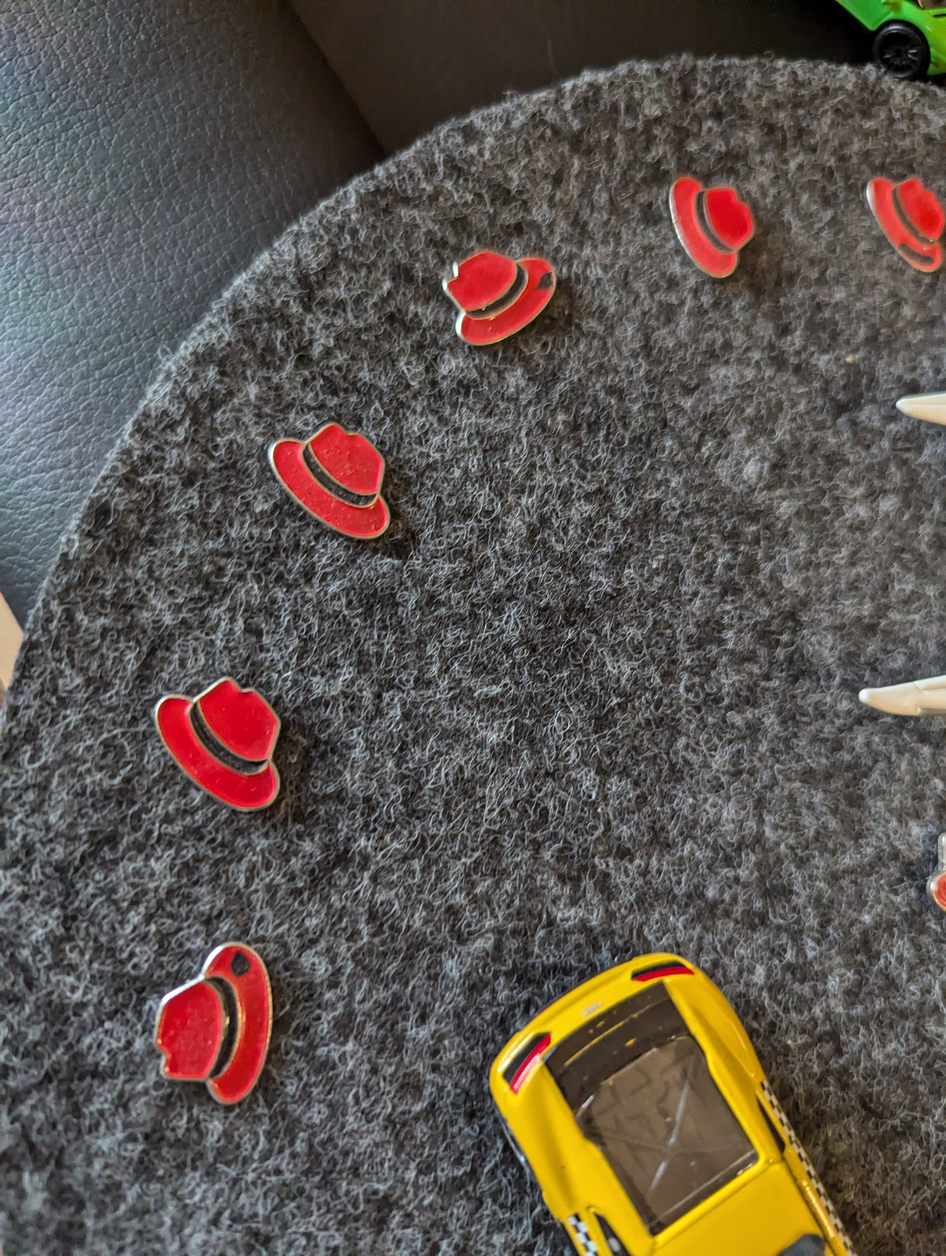Car: (438, 932, 890, 1256)
Red-Hat: (121, 917, 314, 1114), (127, 662, 305, 828), (240, 401, 402, 569), (401, 224, 588, 358), (641, 140, 768, 299), (841, 138, 946, 301)
Scratch: (883, 220, 944, 287), (214, 932, 271, 985), (517, 257, 582, 299)
